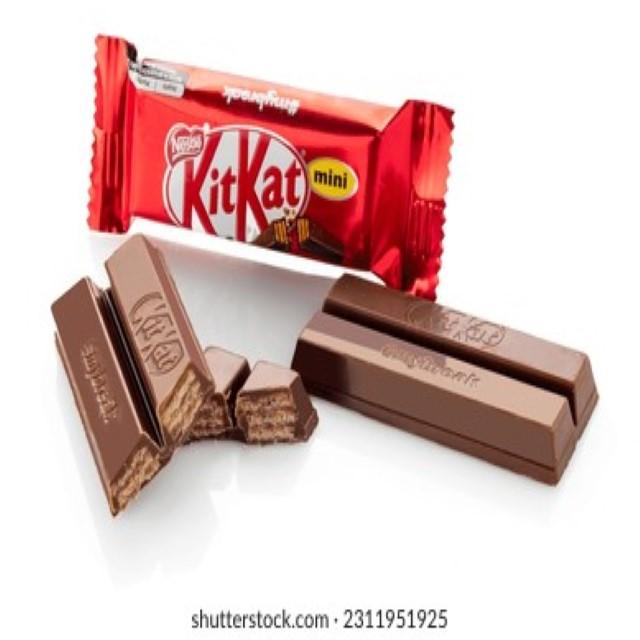kitkat_chocolate: (93, 39, 452, 304)
